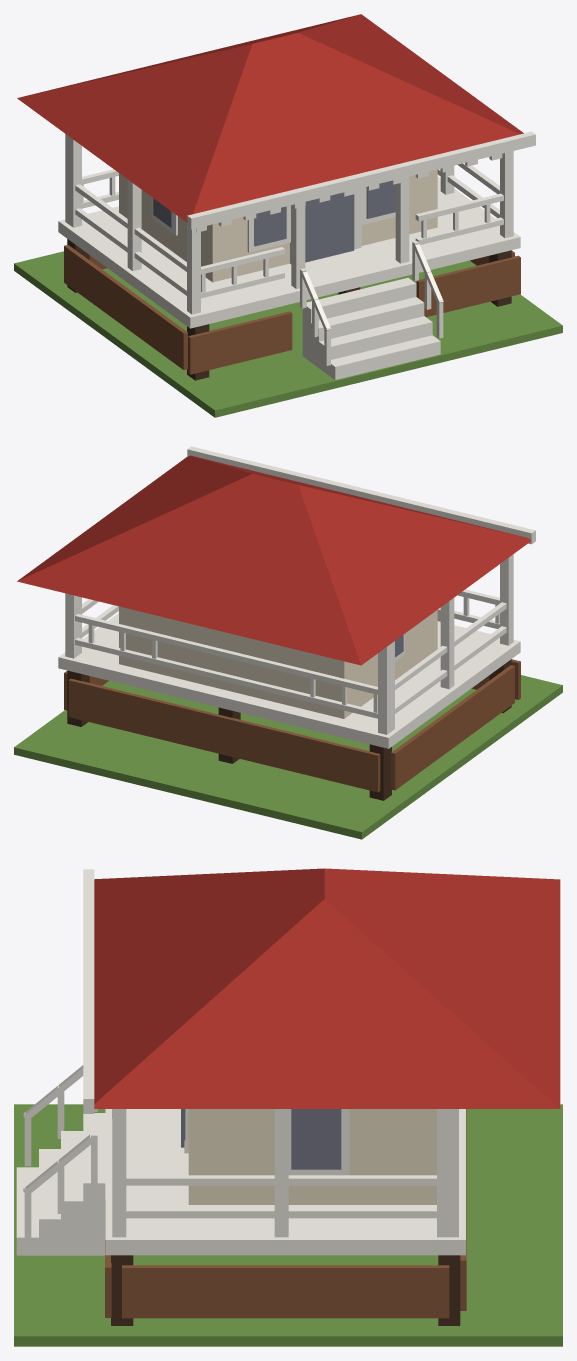
File: house-1x1-1f-queenslander-a.glb
The picture shows the model from 3 angles, top to bottom: view 1: azimuth 30°, elevation 25°; view 2: azimuth 150°, elevation 25°; view 3: azimuth 270°, elevation 25°; orthographic projection. The views are drawn at different scales.
Visible parts, largest first — view 1: house-1x1-1f-queenslander-a; view 2: house-1x1-1f-queenslander-a; view 3: house-1x1-1f-queenslander-a.
Boxes of the visible parts, x1=… form: house-1x1-1f-queenslander-a: x1=14, y1=14, x2=562, y2=417; house-1x1-1f-queenslander-a: x1=14, y1=446, x2=562, y2=839; house-1x1-1f-queenslander-a: x1=14, y1=868, x2=562, y2=1346.
Bounding box in the file's own units: 0.99 × 0.69 × 0.99.
Materials: 1 (1 with a texture image).
